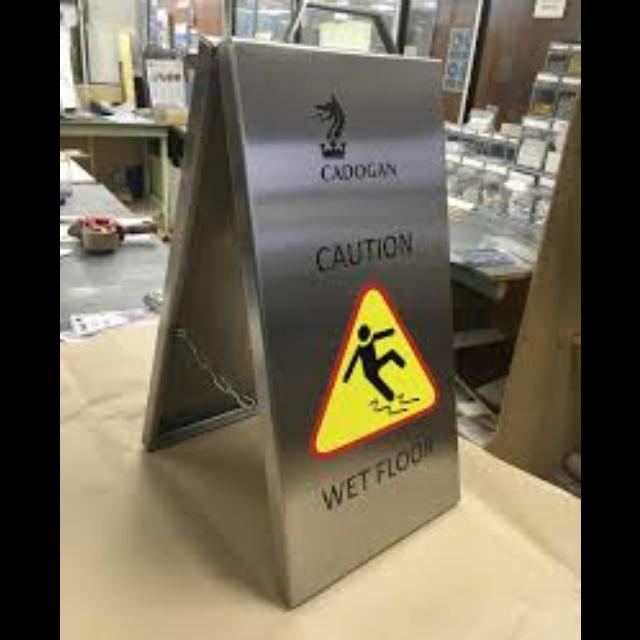slippery_floor: (146, 41, 455, 601)
